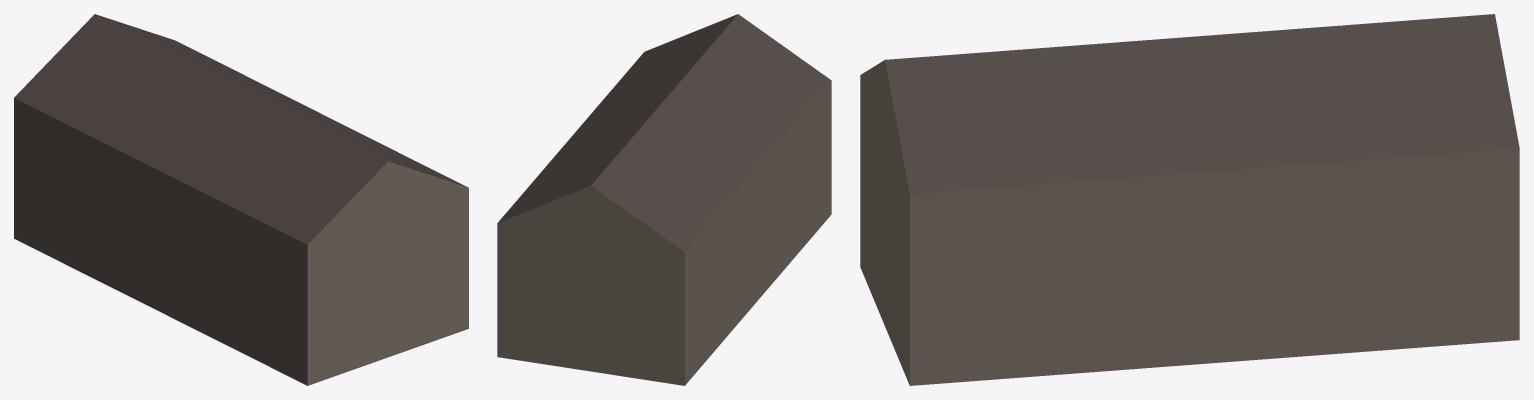
3 renders of one model, left to right at view 1: azimuth 30°, elevation 25°; view 2: azimuth 150°, elevation 25°; view 3: azimuth 270°, elevation 25°, orthographic. The views are drawn at different scales.
Visible parts, largest first — view 1: HP-w1376988687; view 2: HP-w1376988687; view 3: HP-w1376988687.
Boxes of the visible parts, box(x1,y1,x2,y2) form: HP-w1376988687: box(14, 14, 468, 385); HP-w1376988687: box(497, 14, 831, 385); HP-w1376988687: box(860, 14, 1519, 385).
Bounding box in the file's own units: 11.08 × 8.35 × 18.72.
